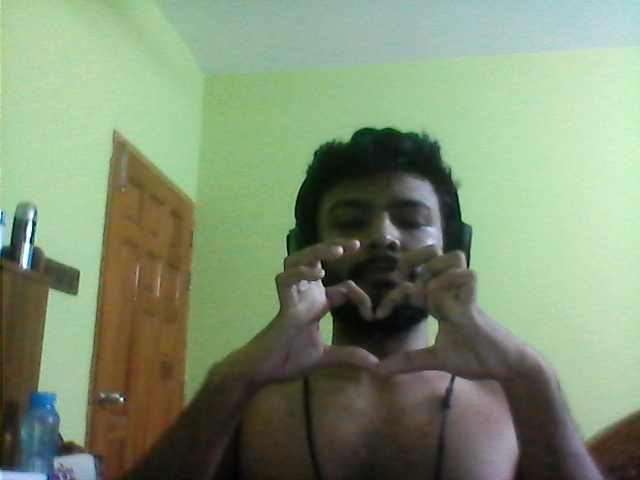Love: (249, 236, 519, 402)
